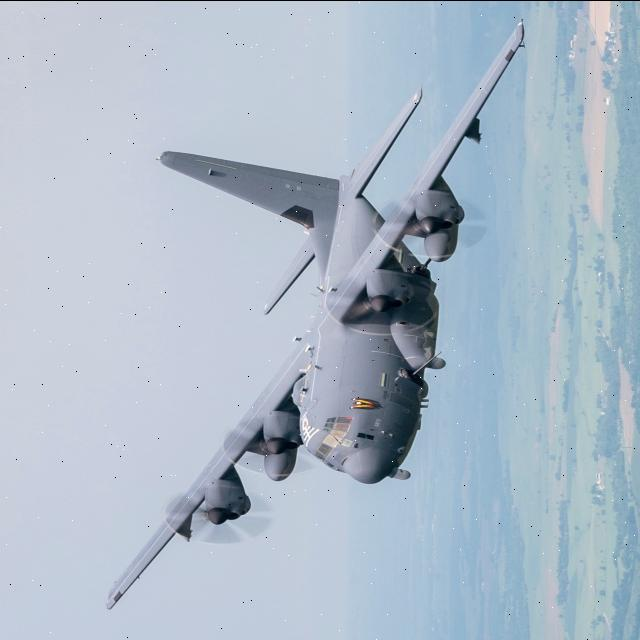B52: (64, 0, 567, 615)
